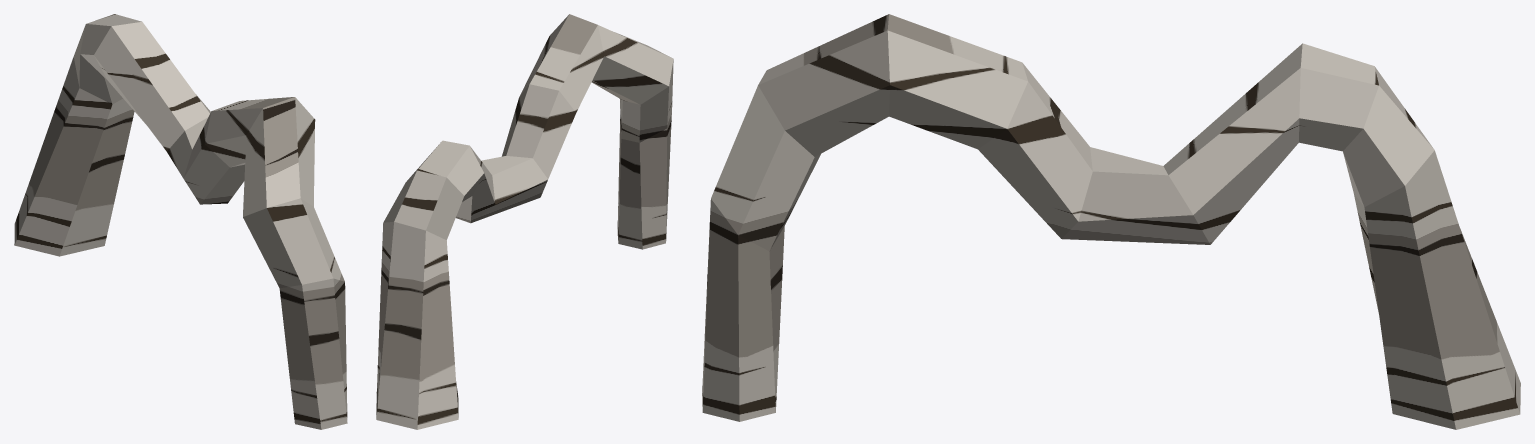
Rendered from synty-swamp-root-02.gltf.
3 renders of one model, left to right at view 1: azimuth 30°, elevation 25°; view 2: azimuth 150°, elevation 25°; view 3: azimuth 270°, elevation 25°, orthographic. The views are drawn at different scales.
Parts seen in each view (by area): view 1: SM_Swamp_Root_02; view 2: SM_Swamp_Root_02; view 3: SM_Swamp_Root_02.
Part boxes in pixels (left/top/right/bottom): SM_Swamp_Root_02: left=14, top=14, right=347, bottom=429; SM_Swamp_Root_02: left=376, top=14, right=673, bottom=429; SM_Swamp_Root_02: left=702, top=14, right=1520, bottom=429.
Size of the model in its own units: 0.2102 by 0.4872 by 0.9209.
1 material, 1 textured.
